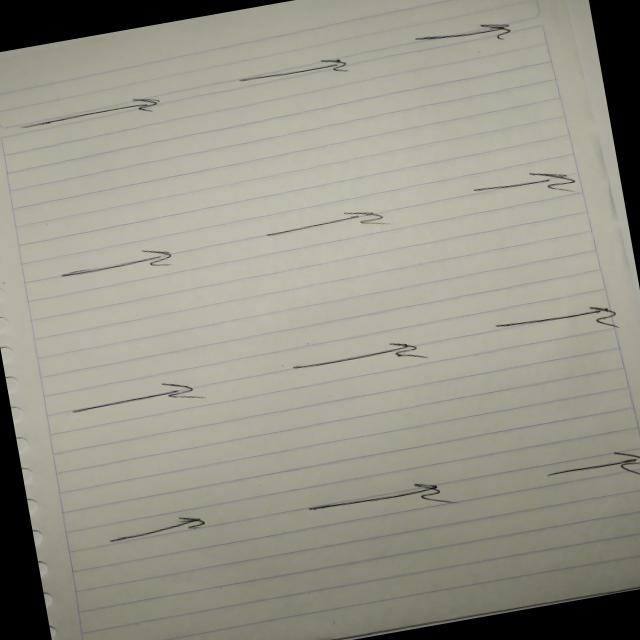arrow_line_right: (294, 466, 474, 540), (3, 81, 182, 148), (274, 322, 439, 391), (477, 288, 637, 358), (48, 368, 212, 436), (248, 194, 412, 258), (459, 150, 598, 216), (47, 236, 196, 294), (394, 7, 531, 68), (523, 438, 640, 507), (224, 44, 358, 100), (96, 502, 222, 560)
